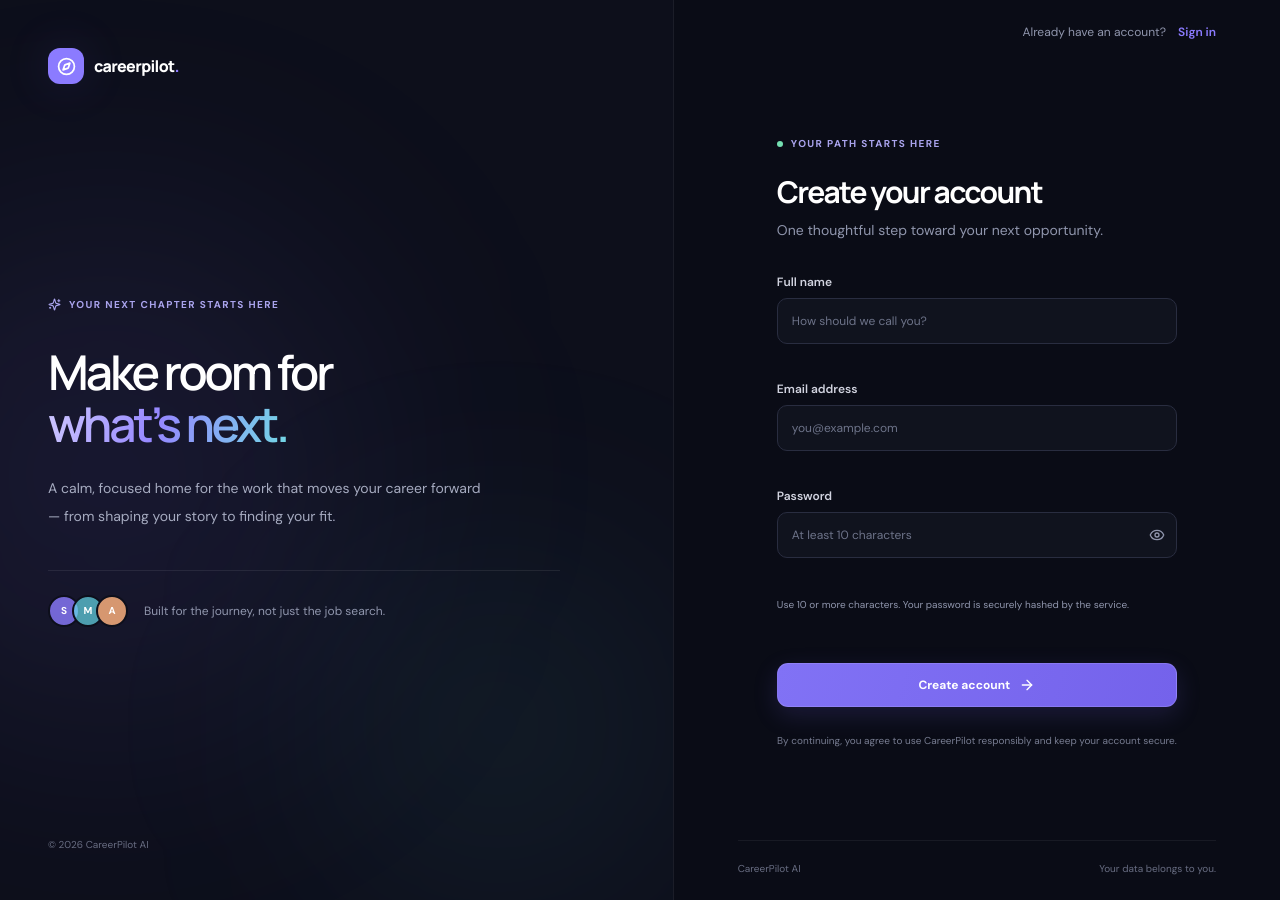
Test: AuthPage › shows accessible field validation before making a request
The image size is (1280, 900).
Click the button "Create account" at (977, 684), box [777,662,1177,706]
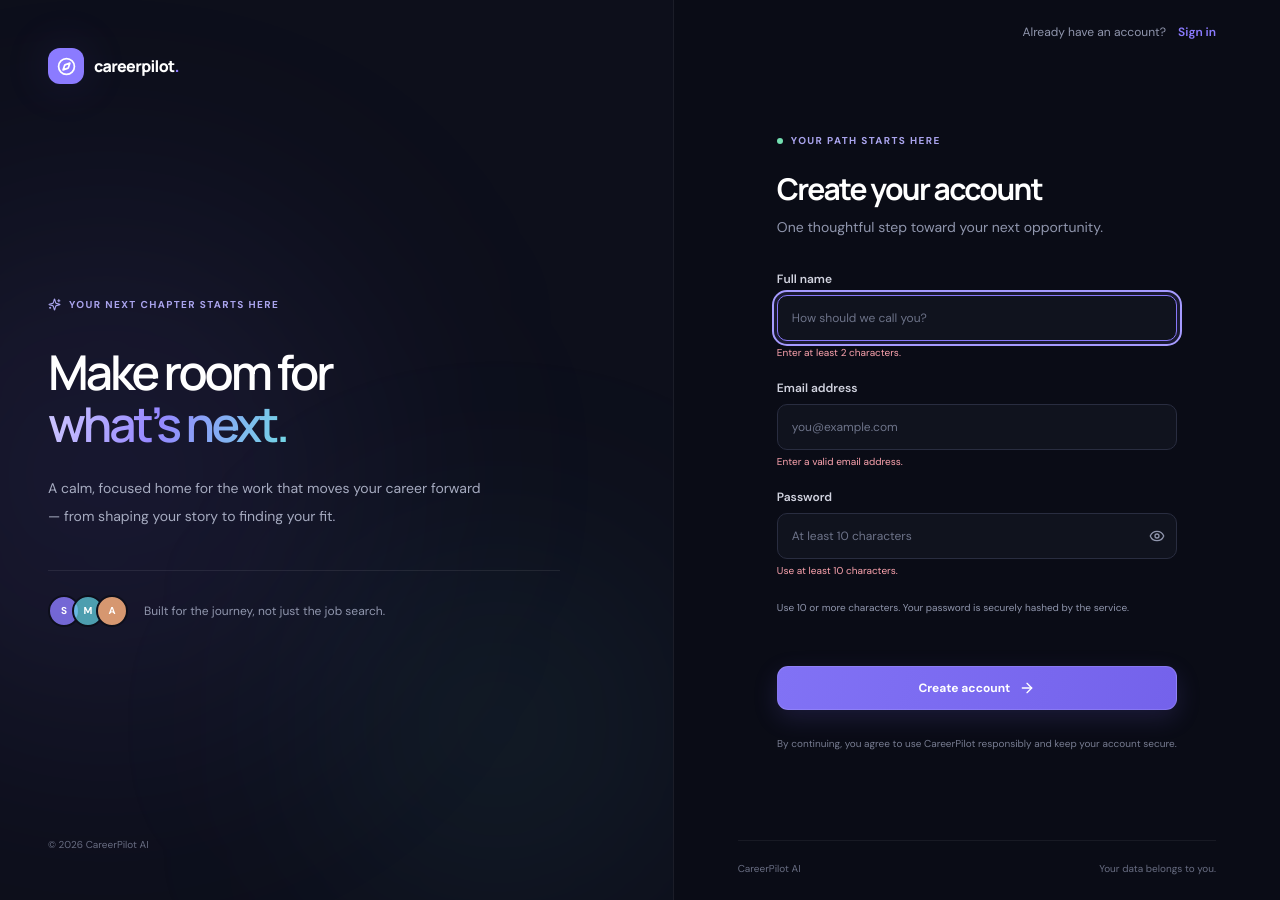
Result: the text "Enter at least 2 characters." is shown at [777,346,901,358]
Result: the text "Enter a valid email address." is shown at [777,454,903,468]
Result: the text "Use at least 10 characters." is shown at [777,564,898,576]
